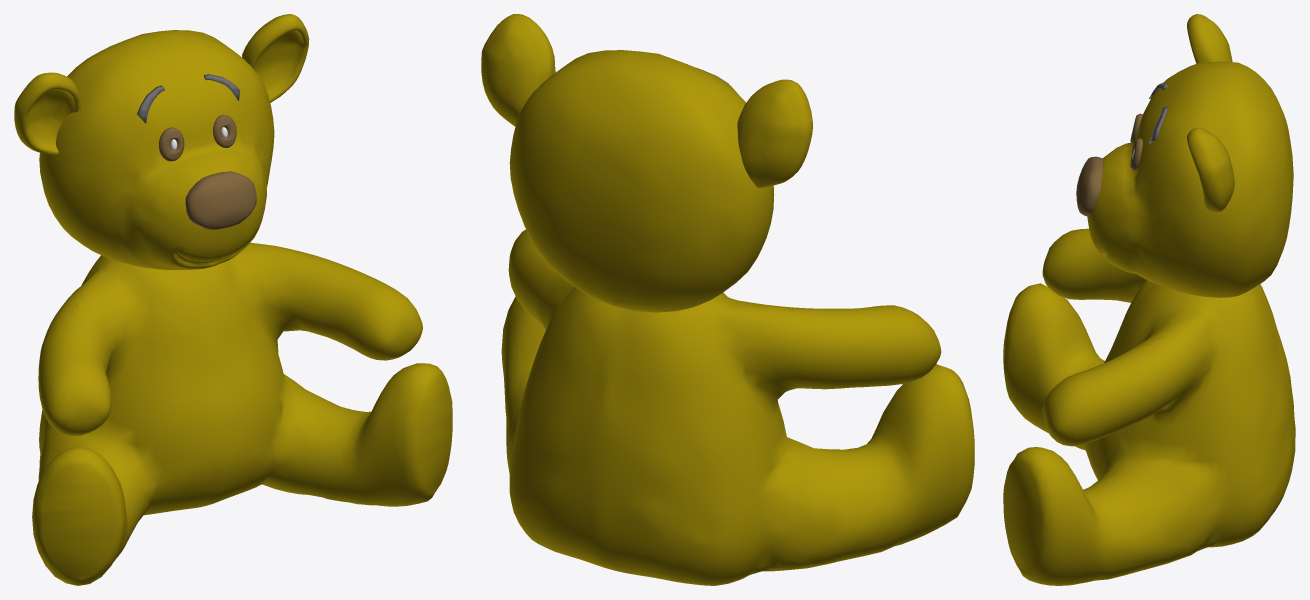
Rendered from teddy.glb.
The picture shows the model from 3 angles, left to right: view 1: azimuth 30°, elevation 25°; view 2: azimuth 150°, elevation 25°; view 3: azimuth 270°, elevation 25°; orthographic projection. The views are drawn at different scales.
Visible parts, largest first — view 1: Geom3D (×11); view 2: Geom3D (×8); view 3: Geom3D (×9).
Part boxes in pixels (left/top/right/bottom): Geom3D (×11): left=14, top=14, right=452, bottom=585; Geom3D (×8): left=481, top=14, right=974, bottom=585; Geom3D (×9): left=1003, top=14, right=1295, bottom=585.
Bounding box in the file's own units: 0.3693 × 0.38 × 0.2303.
